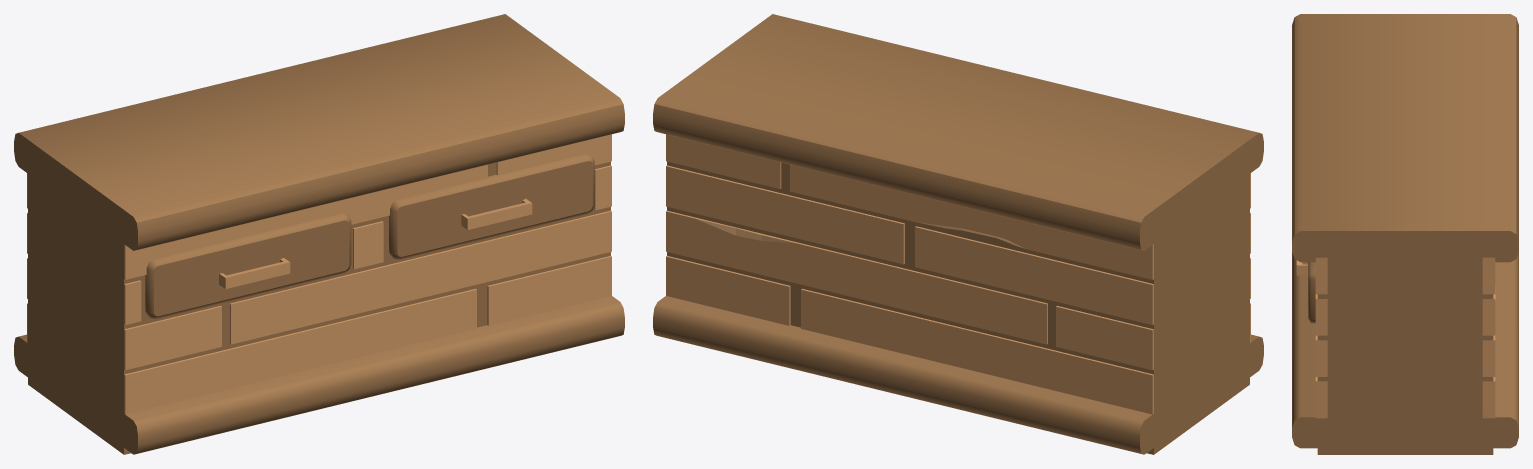
The model's file is Environment_Counter_Drawers.fbx.
3 renders of one model, left to right at view 1: azimuth 30°, elevation 25°; view 2: azimuth 150°, elevation 25°; view 3: azimuth 270°, elevation 25°, orthographic. The views are drawn at different scales.
Parts seen in each view (by area): view 1: Environment_Counter_Drawers; view 2: Environment_Counter_Drawers; view 3: Environment_Counter_Drawers.
Part boxes in pixels (x1,y1,x2,y2): Environment_Counter_Drawers: (14,14,624,454); Environment_Counter_Drawers: (653,14,1263,454); Environment_Counter_Drawers: (1292,14,1518,454).
Bounding box in the file's own units: 400 × 192 × 177.
